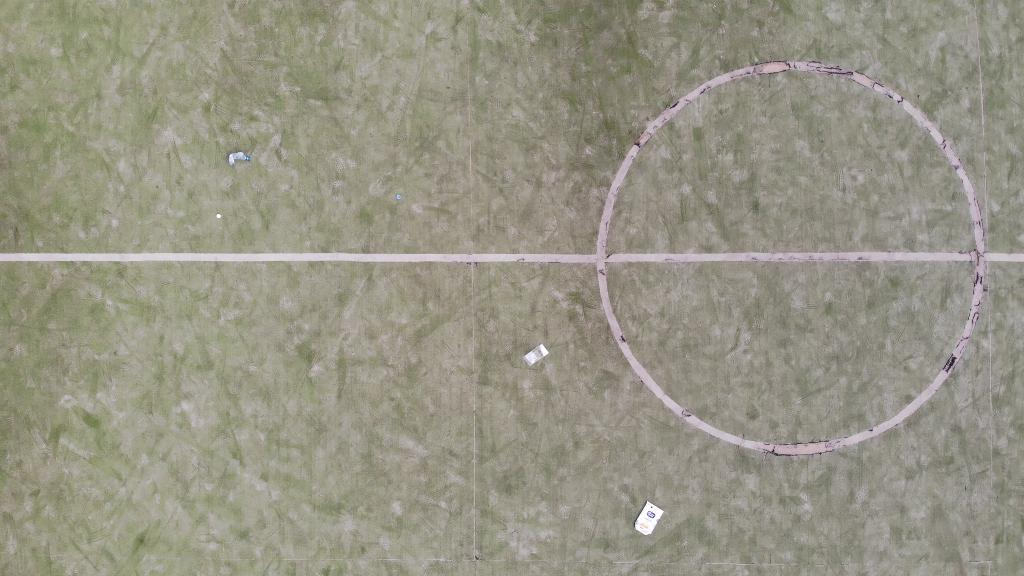garbage: (633, 501, 665, 536), (524, 343, 549, 367), (226, 150, 251, 167)
